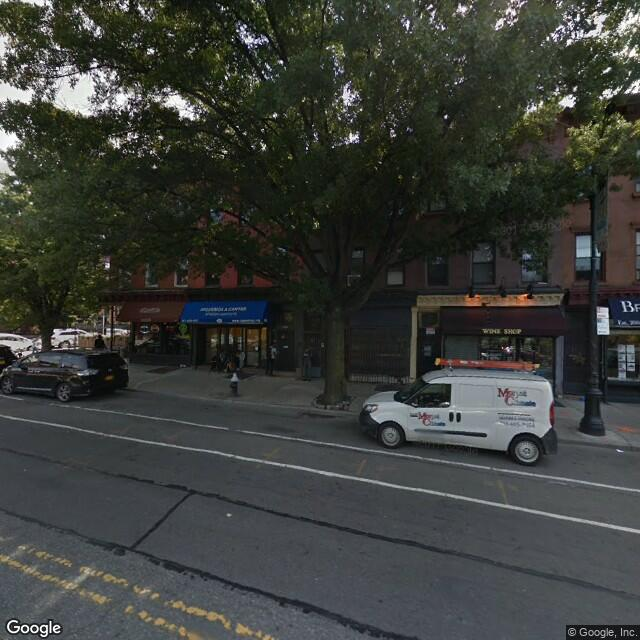litter: (221, 511, 241, 522), (614, 443, 628, 455)
